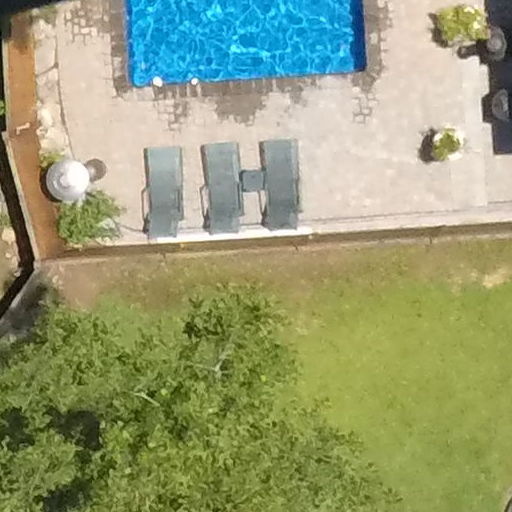flower pot: (426, 1, 488, 55), (423, 118, 465, 166)
pool: (114, 1, 398, 105)
